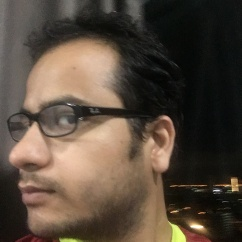glasses: (8, 109, 149, 137)
